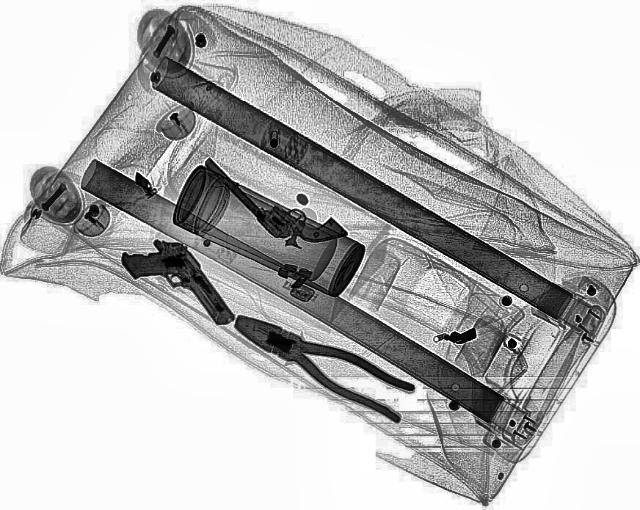Gun: (200, 134, 350, 262), (114, 229, 236, 341)
Pliers: (217, 298, 429, 426)
